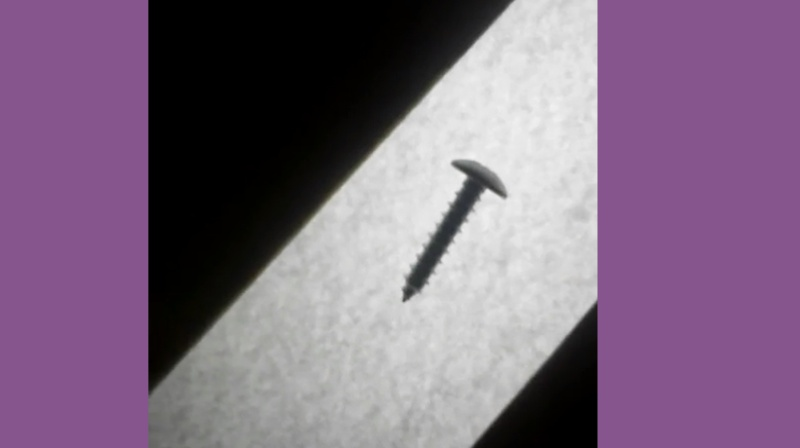S003: (400, 151, 509, 306)
